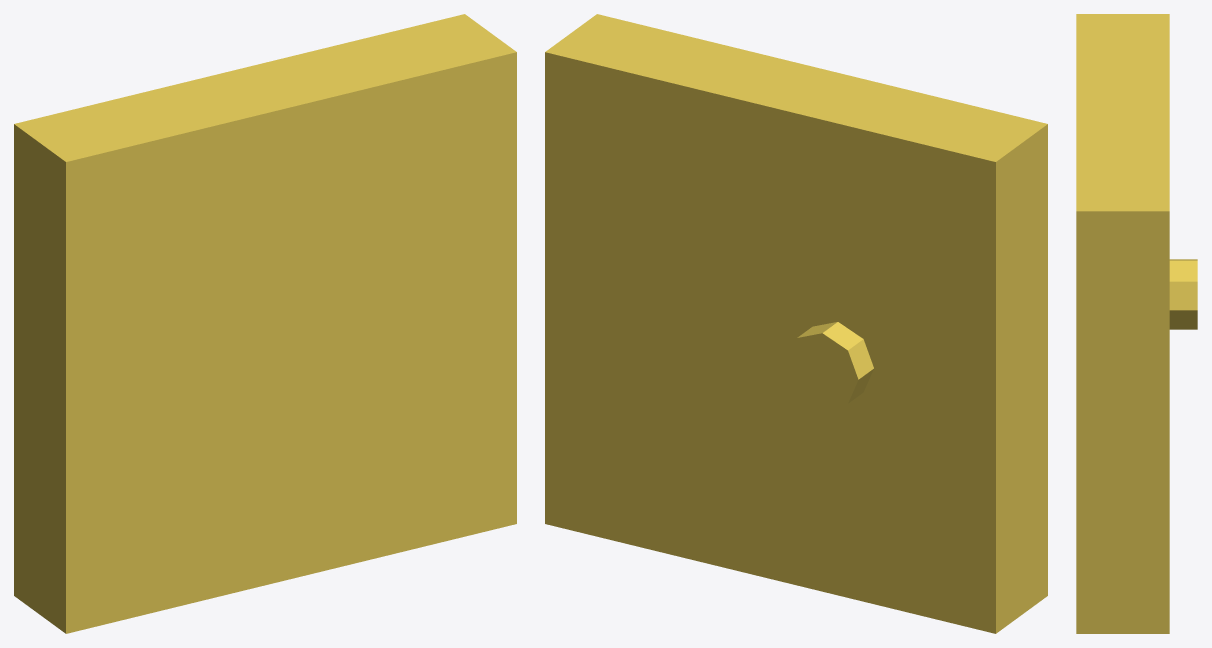
Rendered from fire_dept_connection.glb.
3 renders of one model, left to right at view 1: azimuth 30°, elevation 25°; view 2: azimuth 150°, elevation 25°; view 3: azimuth 270°, elevation 25°, orthographic. The views are drawn at different scales.
Parts seen in each view (by area): view 1: cap; view 2: cap, inlet1; view 3: cap, inlet1.
Boxes of the visible parts, x1,y1,x2,y2 form: cap: (14,14,516,633); cap: (545,14,1047,633); inlet1: (786,322,873,408); cap: (1076,14,1169,633); inlet1: (1169,259,1197,329).
Size of the model in its own units: 1 by 1 by 0.2602.
